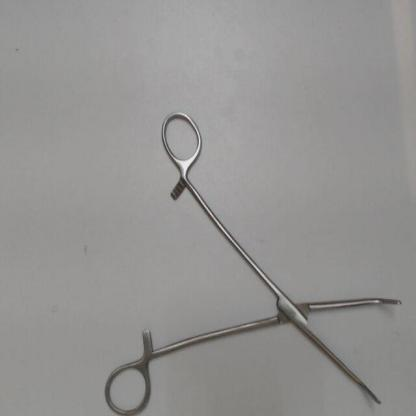Lahey Forceps: (98, 104, 407, 413)
